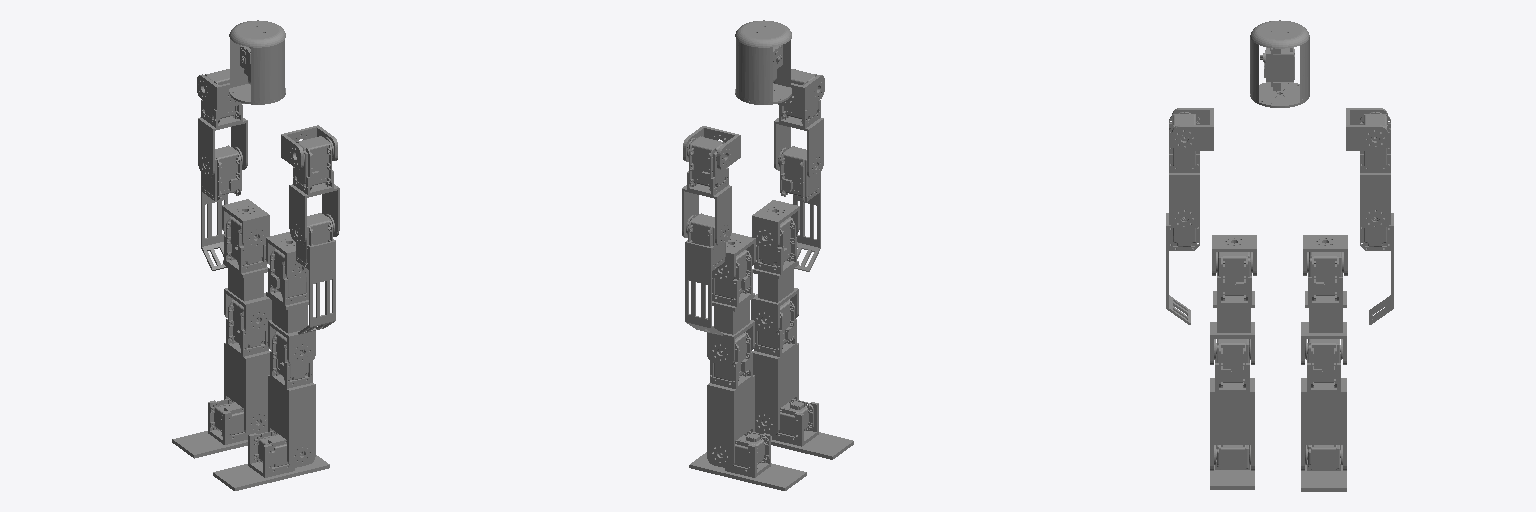
--- Facts derived from the render (not from the file) ---
Views: 3 orthographic renders of the robot side by side, from view 1: azimuth 30°, elevation 25°; view 2: azimuth 150°, elevation 25°; view 3: azimuth 270°, elevation 25°.
Model humanoid with 21 links and 20 joints (16 revolute, 4 fixed), rooted at dummy, posed all joints at 0.
Visible links, largest first — view 1: Left_Calf_Link, Right_Calf_Link, Head_Horizontal_Link, Right_Thigh_Link, Left_Thigh_Link, Left_Mid_Shoulder_Link, Left_Lower_Shoulder_Link, Left_foot_Link, Right_Lower_Shoulder_link, Right_Mid_Shoulder_link, Right_Foot_Link, Right_Hip_Link (+3 smaller); view 2: Right_Calf_Link, Left_Calf_Link, Head_Horizontal_Link, Left_Thigh_Link, Right_Thigh_Link, Right_Mid_Shoulder_link, Right_Lower_Shoulder_link, Right_Foot_Link, Left_Lower_Shoulder_Link, Left_foot_Link, Left_Mid_Shoulder_Link, Left_Hip_Link (+3 smaller); view 3: Right_Calf_Link, Left_Calf_Link, Right_Thigh_Link, Left_Thigh_Link, Head_Horizontal_Link, Left_Mid_Shoulder_Link, Right_Mid_Shoulder_link, Right_Foot_Link, Left_foot_Link, Left_Upper_Shoulder_link, Right_Upper_Shoulder_Link, Left_Lower_Shoulder_Link (+4 smaller).
Boxes of the visible links, box(x1,y1,x2,y2) form: Left_Calf_Link: box(268, 331, 315, 467); Right_Calf_Link: box(224, 300, 269, 434); Head_Horizontal_Link: box(229, 20, 285, 104); Right_Thigh_Link: box(223, 216, 271, 333); Left_Thigh_Link: box(266, 248, 315, 365); Left_Mid_Shoulder_Link: box(289, 136, 339, 244); Left_Lower_Shoulder_Link: box(296, 213, 335, 334); Left_foot_Link: box(213, 431, 329, 490); Right_Lower_Shoulder_link: box(201, 145, 242, 270); Right_Mid_Shoulder_link: box(198, 69, 247, 177); Right_Foot_Link: box(172, 398, 259, 458); Right_Hip_Link: box(222, 199, 269, 247); Right_Calf_Link: box(707, 332, 754, 468); Left_Calf_Link: box(753, 299, 798, 435); Head_Horizontal_Link: box(735, 20, 791, 104); Left_Thigh_Link: box(751, 217, 798, 333); Right_Thigh_Link: box(707, 250, 754, 366); Right_Mid_Shoulder_link: box(682, 136, 731, 245); Right_Lower_Shoulder_link: box(685, 213, 725, 335); Right_Foot_Link: box(689, 431, 806, 490); Left_Lower_Shoulder_Link: box(778, 146, 820, 271); Left_foot_Link: box(755, 399, 853, 459); Left_Mid_Shoulder_Link: box(774, 69, 823, 178); Left_Hip_Link: box(752, 200, 799, 248); Right_Calf_Link: box(1301, 339, 1346, 470); Left_Calf_Link: box(1210, 339, 1254, 470); Right_Thigh_Link: box(1301, 252, 1346, 364); Left_Thigh_Link: box(1210, 252, 1254, 364); Head_Horizontal_Link: box(1250, 20, 1309, 107); Left_Mid_Shoulder_Link: box(1169, 112, 1199, 229); Right_Mid_Shoulder_link: box(1360, 112, 1390, 229); Right_Foot_Link: box(1301, 445, 1346, 491); Left_foot_Link: box(1210, 445, 1254, 489); Left_Upper_Shoulder_link: box(1172, 108, 1213, 150); Right_Upper_Shoulder_Link: box(1346, 108, 1387, 150); Left_Lower_Shoulder_Link: box(1166, 210, 1199, 324).
Bounding box of the posed robot: 0.1501 × 0.2876 × 0.6137 m (x, y, z).
Meshes: 19 distinct files referenced, 18 mesh visuals loaded (18 binary STL); not drawn: 1 (reference not matched to a file when rendering).

robot.urdf — humanoid:
<?xml version="1.0" encoding="utf-8"?>


<robot name="humanoid">

<!-- gazebo materials -->

  <material name="black">
    <color rgba="0.0 0.0 0.0 1.0"/>
  </material>
  <material name="blue">
    <color rgba="0.0 0.0 0.8 1.0"/>
  </material>
  <material name="green">
    <color rgba="0.0 0.8 0.0 1.0"/>
  </material>
  <material name="grey">
    <color rgba="0.6 0.6 0.6 1.0"/>
  </material>
  <material name="orange">
    <color rgba="1.0 0.423529411765 0.0392156862745 1.0"/>
  </material>
  <material name="brown">
    <color rgba="0.870588235294 0.811764705882 0.764705882353 1.0"/>
  </material>
  <material name="red">
    <color rgba="0.8 0.0 0.0 1.0"/>
  </material>
  <material name="white">
    <color rgba="1.0 1.0 1.0 1.0"/>
  </material>

<!-- ros_control plugins -->

  <gazebo>
    <plugin name="gazebo_ros_control" filename="libgazebo_ros_control.so">
      <robotNamespace>/humanoid</robotNamespace> 
    </plugin> 
  </gazebo>

  <gazebo>
    <plugin filename="libgazebo_ros_p3d.so" name="ground_truth">
      <frameName>map</frameName>
      <bodyName>base_link</bodyName>
      <topicName>/humanoid/odom</topicName>
      <updateRate>100.0</updateRate>
    </plugin>
  </gazebo>

<!-- IMU -->
  <gazebo reference="IMU_Link">
    <gravity>true</gravity>
    <material>Gazebo/Green</material>
    <sensor name="IMU_Link" type="imu">
      <always_on>true</always_on>
      <update_rate>100</update_rate>
      <visualize>true</visualize>
      <topic>/humanoid/sensor/imu</topic>

      <plugin filename="libgazebo_ros_imu_sensor.so" name="imu_plugin">
        <topicName>humanoid/sensor/imu</topicName>
        <bodyName>IMU_Link</bodyName>
        <updateRateHZ>10.0</updateRateHZ>
        <gaussianNoise>0.0</gaussianNoise>
        <xyzOffset>0 0 0</xyzOffset>
        <rpyOffset>0 0 0</rpyOffset>
        <frameName>IMU_Link</frameName>
      </plugin>
      <pose>0 0 0 0 0 0</pose>
    </sensor>
  </gazebo>

  <!-- World -->
  <gazebo reference="world"/>
  <!-- Map -->
  <gazebo reference="map"/>
  <!-- Base -->
  <gazebo reference="base_link"/>
  <!-- IMU -->
  <gazebo reference="imu_link"/>
  <!-- base -->
  <gazebo reference="base_link">
    <mu1>0.2</mu1>
    <mu2>0.2</mu2>
    <material>Gazebo/Grey</material>
    <selfCollide>false</selfCollide>
  </gazebo>

  <!-- Left Shoulder -->
  <gazebo reference="Left_Upper Shoulder_link">
    <mu1>0.2</mu1>
    <mu2>0.2</mu2>
    <material>Gazebo/Grey</material>
    <selfCollide>false</selfCollide>
  </gazebo>

  <gazebo reference="Left_Mid_Shoulder_Link">
    <mu1>0.2</mu1>
    <mu2>0.2</mu2>
    <material>Gazebo/Grey</material>
    <selfCollide>false</selfCollide>
  </gazebo>

  <gazebo reference="Left_Lower_Shoulder Link">
    <mu1>0.2</mu1>
    <mu2>0.2</mu2>
    <material>Gazebo/Grey</material>
    <selfCollide>false</selfCollide>
  </gazebo>

<!--Right Shoulder -->
  <gazebo reference="Right_Upper_Shoulder_Link">
    <mu1>0.2</mu1>
    <mu2>0.2</mu2>
    <material>Gazebo/Grey</material>
    <selfCollide>false</selfCollide>
  </gazebo>

  <gazebo reference="Right_Mid_Shoulder_link">
    <mu1>0.2</mu1>
    <mu2>0.2</mu2>
    <material>Gazebo/Grey</material>
    <selfCollide>false</selfCollide>
  </gazebo>

  <gazebo reference="Right_Lower_Shoulder_link">
    <mu1>0.2</mu1>
    <mu2>0.2</mu2>
    <material>Gazebo/Grey</material>
    <selfCollide>false</selfCollide>
  </gazebo>

<!--Right Leg -->
  <gazebo reference="Right_Hip_Link">
    <mu1>0.2</mu1>
    <mu2>0.2</mu2>
    <material>Gazebo/Grey</material>
    <selfCollide>false</selfCollide>
  </gazebo>

  <gazebo reference="Right_Thigh_Link">
    <mu1>0.2</mu1>
    <mu2>0.2</mu2>
    <material>Gazebo/Grey</material>
    <selfCollide>false</selfCollide>
  </gazebo>

  <gazebo reference="Right_Calf_Link Link">
    <mu1>0.2</mu1>
    <mu2>0.2</mu2>
    <material>Gazebo/Grey</material>
    <selfCollide>false</selfCollide>
  </gazebo>

  <gazebo reference="Right_Foot_Link">
    <kp>10000.0</kp>
    <kd>100.0</kd>
    <mu1>0.9</mu1>
    <mu2>0.9</mu2>
    <fdir1>1 1 0</fdir1>
    <maxVel>1.0</maxVel>
    <minDepth>0.0001</minDepth>
    <material>Gazebo/Blue</material>
  </gazebo>

<!-- Left Leg -->
  <gazebo reference="Left_Hip_Link">
    <mu1>0.2</mu1>
    <mu2>0.2</mu2>
    <material>Gazebo/Grey</material>
    <selfCollide>false</selfCollide>
  </gazebo>
  <gazebo reference="Left_Thigh_Link">
    <mu1>0.2</mu1>
    <mu2>0.2</mu2>
    <material>Gazebo/Grey</material>
    <selfCollide>false</selfCollide>
  </gazebo>
  <gazebo reference="Left_Calf_Link">
    <mu1>0.2</mu1>
    <mu2>0.2</mu2>
    <material>Gazebo/Grey</material>
    <selfCollide>false</selfCollide>
  </gazebo>
  <gazebo reference="Left_foot_Link">
    <kp>10000.0</kp>
    <kd>100.0</kd>
    <mu1>0.9</mu1>
    <mu2>0.9</mu2>
    <fdir1>1 1 0</fdir1>
    <maxVel>1.0</maxVel>
    <minDepth>0.0001</minDepth>
    <material>Gazebo/Blue</material>
  </gazebo>

<!-- head -->
  <gazebo reference="Head_Horizontal_Link">
    <mu1>0.2</mu1>
    <mu2>0.2</mu2>
    <material>Gazebo/Grey</material>
    <selfCollide>false</selfCollide>
  </gazebo>

  <gazebo reference="Head_Vertical_Link">
    <mu1>0.2</mu1>
    <mu2>0.2</mu2>
    <material>Gazebo/Grey</material>
    <selfCollide>false</selfCollide>
  </gazebo>
<!-- Camera -->
   <gazebo reference="Lens_Link">
    <material>Gazebo/red</material>
    <sensor name="Camera" type="camera">
      <pose> 0 0 0 0 0 0   </pose>
      <visualize>true</visualize>
      <update_rate>100</update_rate>
      <camera>
        <horizontal_fov>1.089</horizontal_fov>
       <image>
          <format>R8G8B8</format>
          <width>640</width>
          <height>480</height>
        </image> 
        <clip>
          <near>0.05</near>
          <far>8.0</far>
        </clip>
      </camera>
      <plugin name="camera_controller" filename="libgazebo_ros_camera.so">
        <frame_name>Lens_Link</frame_name>
	<topicName>humanoid/sensor/camera</topicName>
        <updateRateHZ>10.0</updateRateHZ>
      </plugin>
    </sensor>
  </gazebo>  

<!-- Dummy Link -->
  <link name="dummy">
    </link>

<!-- Dummy Joint -->
  <joint name ="dummy_joint" type="fixed">
	<parent link="dummy" />
	<child link="base_link" />
  </joint>

<!-- Base link -->
  <link
    name="base_link">
    <inertial>
      <origin xyz="0.0430324853400007 -0.000472436994687554 0.418875105300566" rpy="0 0 0" />
      <mass value="1.5156152965091" />
      <inertia
        ixx="0.00479971128253314"
        ixy="-1.53952738629959E-06"
        ixz="-0.000447300525972222"
        iyy="0.0034137294682176"
        iyz="-2.76941918796667E-06"
        izz="0.00294823153121814" />
    </inertial>
    <visual>
      <origin xyz="0 0 0" rpy="0 0 0" />
      <geometry>
        <mesh filename="package://humanoid_descripition/meshes/base_link.STL" />
      </geometry>
      <material name="grey"/>
    </visual>
    <collision>
      <origin
        xyz="0 0 0" rpy="0 0 0" />
      <geometry>
        <mesh filename="package://humanoid_descripition/meshes/base_link.STL" />
      </geometry>
    </collision>
  </link>
<!--Left upper shoulder link -->
  <link
    name="Left_Upper_Shoulder_link">
    <inertial>
      <origin xyz="-3.46944695195361E-18 -0.0155156048759658 -7.21644966006352E-16" rpy="0 0 0" />
      <mass value="0.0623876643494411" />
      <inertia ixx="2.27108792085224E-05" ixy="7.39334846754752E-21" ixz="-3.44731761197701E-21" iyy="3.90809536959519E-05" iyz="-1.53755655815756E-21"  izz="4.97719837636778E-05" />
    </inertial>
    <visual>
      <origin xyz="0 0 0" rpy="0 0 0" />
      <geometry>
        <mesh filename="package://humanoid_descripition/meshes/Left_Upper_Shoulder_link.STL" />
      </geometry>
      <material name="grey"/>
    </visual>
    <collision>
      <origin
        xyz="0 0 0" rpy="0 0 0" />
      <geometry>
        <mesh filename="package://humanoid_descripition/meshes/Left_Upper_Shoulder_link.STL" />
      </geometry>
    </collision>
  </link>

<!-- Left_Upper_Shoulder_Joint -->
  <joint
    name="Left_Upper_Shoulder_Joint" type="revolute">
    <origin xyz="0.045 -0.0862 0.48279"  rpy="0 0 0" />
    <parent link="base_link" />
    <child link="Left_Upper_Shoulder_link" />
    <axis xyz="0 -1 0" />
    <limit lower="-3.14" upper="3.14" effort="8.4" velocity="4.712" />
    <dynamics damping="0.1" friction="0.0"/>
  </joint>

<!-- Left_Upper_Shoulder_Transmission -->
  <transmission name="Left_Upper_Shoulder_transmission">
    <type>transmission_interface/SimpleTransmission</type>
    <joint name="Left_Upper_Shoulder_Joint">
      <hardwareInterface>hardware_interface/EffortJointInterface</hardwareInterface>
    </joint>
    <actuator name="Left_Upper_Shoulder_actuator">
      <hardwareInterface>hardware_interface/EffortJointInterface</hardwareInterface>
      <mechanicalReduction>1</mechanicalReduction>
    </actuator>
  </transmission>

  <link
    name="Left_Mid_Shoulder_Link">
    <inertial>
      <origin xyz="0.0264662969429448 4.09537062595611E-08 -0.0440571522217455" rpy="0 0 0" />
      <mass value="0.154300552543257" />
      <inertia
        ixx="7.07637535997255E-05"
        ixy="-5.19855697944797E-13"
        ixz="-2.88599141150469E-07"
        iyy="9.89041124781951E-05"
        iyz="2.76937890171708E-10"
        izz="6.2961859669379E-05" />
    </inertial>
    <visual>
      <origin xyz="0 0 0" rpy="0 0 0" />
      <geometry>
        <mesh filename="package://humanoid_descripition/meshes/Left_Mid_Shoulder_Link.STL" />
      </geometry>
      <material name="grey"/>
    </visual>
    <collision>
      <origin xyz="0 0 0" rpy="0 0 0" />
      <geometry>
        <mesh filename="package://humanoid_descripition/meshes/Left_Mid_Shoulder_Link.STL" />
      </geometry>
    </collision>
  </link>

<!-- Left_Mid_Shoulder_Joint -->
  <joint name="Left_Mid_Shoulder_Joint" type="revolute">
    <origin xyz="-0.026 -0.0345 0" rpy="0 0 0" />
    <parent link="Left_Upper_Shoulder_link" />
    <child link="Left_Mid_Shoulder_Link" />
    <axis xyz="1 0 0" />
    <limit lower="-3.14" upper="3.14" effort="6" velocity="6.59" />
  </joint>

<!-- Left Mid shoulder transmission -->
  <transmission name="Left_Mid_Shoulder_transmission">
    <type>transmission_interface/SimpleTransmission</type>
    <joint name="Left_Mid_Shoulder_Joint">
      <hardwareInterface>hardware_interface/EffortJointInterface</hardwareInterface>
    </joint>
    <actuator name="Left_Mid_Shoulder_actuator">
      <hardwareInterface>hardware_interface/EffortJointInterface</hardwareInterface>
      <mechanicalReduction>1</mechanicalReduction>
    </actuator>
  </transmission>

<!-- Left Lower Shoulder Link -->
  <link name="Left_Lower_Shoulder_Link">
    <inertial>
      <origin xyz="0.0250664390388209 -0.00638333415263484 -0.0372443138205451" rpy="0 0 0" />
      <mass value="0.116130359952787" />
      <inertia
        ixx="0.000106554804819096"
        ixy="-5.19855704836473E-13"
        ixz="2.8859914115054E-07"
        iyy="0.000115041924032447"
        iyz="5.75846158471286E-06"
        izz="2.6449480887795E-05" />
    </inertial>
    <visual>
      <origin xyz="0 0 0" rpy="0 0 0" />
      <geometry>
        <mesh filename="package://humanoid_descripition/meshes/Left_Lower_Shoulder Link.STL" />
      </geometry>
      <material name="grey"/>
    </visual>
    <collision>
      <origin xyz="0 0 0" rpy="0 0 0" />
      <geometry>
        <mesh filename="package://humanoid_descripition/meshes/Left_Lower_Shoulder Link.STL" />
      </geometry>
    </collision>
  </link>

<!-- Left_Lower_Shoulder_Joint -->
  <joint name="Left_Lower_Shoulder_Joint" type="revolute">
    <origin xyz="0.00230000000000036 0 -0.111599999999999" rpy="0 0 0" />
    <parent link="Left_Mid_Shoulder_Link" />
    <child link="Left_Lower_Shoulder_Link" />
    <axis xyz="1 0 0" />
    <limit lower="-3.14" upper="3.14" effort="6" velocity="6.59" />
  </joint>

<!-- Left_Lower_Shoulder_transmission-->
  <transmission name="Left_Lower_Shoulder_transmission">
    <type>transmission_interface/SimpleTransmission</type>
    <joint name="Left_Lower_Shoulder_Joint">
      <hardwareInterface>hardware_interface/EffortJointInterface</hardwareInterface>
    </joint>
    <actuator name="Left_Lower_Shoulder_actuator">
      <hardwareInterface>hardware_interface/EffortJointInterface</hardwareInterface>
      <mechanicalReduction>1</mechanicalReduction>
    </actuator>
  </transmission>
<!-- Right upper shoulder link -->
  <link name="Right_Upper_Shoulder_Link">
    <inertial>
      <origin xyz="-1.21430643318376E-17 0.015515604875966 -7.49400541621981E-16" rpy="0 0 0" />
      <mass value="0.0623876643494411" />
      <inertia
        ixx="2.27108792085224E-05"
        ixy="-1.28155332543922E-20"
        ixz="-1.24135449919456E-20"
        iyy="3.90809536959519E-05"
        iyz="-1.95476644554543E-22"
        izz="4.97719837636778E-05" />
    </inertial>
    <visual>
      <origin xyz="0 0 0" rpy="0 0 0" />
      <geometry>
        <mesh filename="package://humanoid_descripition/meshes/Right_Upper_Shoulder_Link.STL" />
      </geometry>
      <material name="grey"/>
    </visual>
    <collision>
      <origin xyz="0 0 0" rpy="0 0 0" />
      <geometry>
        <mesh filename="package://humanoid_descripition/meshes/Right_Upper_Shoulder_Link.STL" />
      </geometry>
    </collision>
  </link>

<!-- Right_Upper_Shoulder_Joint -->
  <joint name="Right_Upper_Shoulder_Joint" type="revolute">
    <origin xyz="0.045 0.0862000000000002 0.482793745640598" rpy="0 0 0" />
    <parent link="base_link" />
    <child link="Right_Upper_Shoulder_Link" />
    <axis xyz="0 1 0" />
    <limit lower="-3.14" upper="3.14" effort="8.4" velocity="4.712" />
  </joint>

<!-- Right_Upper_Shoulder_transmission -->
  <transmission name="Right_Upper_Shoulder_transmission">
    <type>transmission_interface/SimpleTransmission</type>
    <joint name="Right_Upper_Shoulder_Joint">
      <hardwareInterface>hardware_interface/EffortJointInterface</hardwareInterface>
    </joint>
    <actuator name="Right_Upper_Shoulder_actuator">
      <hardwareInterface>hardware_interface/EffortJointInterface</hardwareInterface>
      <mechanicalReduction>1</mechanicalReduction>
    </actuator>
  </transmission>
<!-- right mid shoulder link -->
  <link name="Right_Mid_Shoulder_link">
    <inertial>
      <origin xyz="0.0264662969429444 4.09537060375165E-08 -0.044057152221746" rpy="0 0 0" />
      <mass value="0.154300552543257" />
      <inertia
        ixx="7.07637535997256E-05"
        ixy="-5.19855694633109E-13"
        ixz="-2.88599141150464E-07"
        iyy="9.89041124781952E-05"
        iyz="2.76937890187698E-10"
        izz="6.29618596693791E-05" />
    </inertial>
    <visual>
      <origin xyz="0 0 0" rpy="0 0 0" />
      <geometry>
        <mesh filename="package://humanoid_descripition/meshes/Right_Mid_Shoulder_link.STL" />
      </geometry>
      <material
        name="grey"/>
    </visual>
    <collision>
      <origin xyz="0 0 0" rpy="0 0 0" />
      <geometry>
        <mesh filename="package://humanoid_descripition/meshes/Right_Mid_Shoulder_link.STL" />
      </geometry>
    </collision>
  </link>

<!-- Right_Mid_Shoulder_Joint -->
  <joint name="Right_Mid_Shoulder_Joint" type="revolute">
    <origin xyz="-0.026 0.0345 0" rpy="0 0 0" />
    <parent link="Right_Upper_Shoulder_Link" />
    <child link="Right_Mid_Shoulder_link" />
    <axis xyz="1 0 0" />
    <limit lower="-3.14" upper="3.14" effort="6" velocity="6.59" />
  </joint>

<!-- Right_Mid_Shoulder_transmission -->
  <transmission name="Right_Mid_Shoulder_transmission">
    <type>transmission_interface/SimpleTransmission</type>
    <joint name="Right_Mid_Shoulder_Joint">
      <hardwareInterface>hardware_interface/EffortJointInterface</hardwareInterface>
    </joint>
    <actuator name="Right_Mid_Shoulder_actuator">
      <hardwareInterface>hardware_interface/EffortJointInterface</hardwareInterface>
      <mechanicalReduction>1</mechanicalReduction>
    </actuator>
  </transmission>

<!-- Right Lower Shoulder -->
  <link
    name="Right_Lower_Shoulder_link">
    <inertial>
      <origin xyz="0.0250664390388211 0.00638333374995644 -0.0372443138205444" rpy="0 0 0" />
      <mass value="0.116130359952787" />
      <inertia
        ixx="0.000106554804819096"
        ixy="-5.19855699251492E-13"
        ixz="2.88599141150526E-07"
        iyy="0.000115041924032448"
        iyz="-5.75845724996921E-06"
        izz="2.64494808877951E-05" />
    </inertial>
    <visual>
      <origin xyz="0 0 0" rpy="0 0 0" />
      <geometry>
        <mesh filename="package://humanoid_descripition/meshes/Right_Lower_Shoulder_link.STL" />
      </geometry>
      <material name="grey"/>
    </visual>
    <collision>
      <origin xyz="0 0 0" rpy="0 0 0" />
      <geometry>
        <mesh filename="package://humanoid_descripition/meshes/Right_Lower_Shoulder_link.STL" />
      </geometry>
    </collision>
  </link>

<!-- Right_Lower_Shoulder_joint -->
  <joint name="Right_Lower_Shoulder_Joint" type="revolute">
    <origin xyz="0.00230000000000011 0 -0.1116" rpy="0 0 0" />
    <parent link="Right_Mid_Shoulder_link" />
    <child link="Right_Lower_Shoulder_link" />
    <axis xyz="1 0 0" />
    <limit lower="-3.14" upper="3.14" effort="6" velocity="6.59" />
  </joint>

<!-- Right_Lower_Shoulder_transmission -->
  <transmission name="Right_Lower_Shoulder_transmission">
    <type>transmission_interface/SimpleTransmission</type>
    <joint name="Right_Lower_Shoulder_Joint">
      <hardwareInterface>hardware_interface/EffortJointInterface</hardwareInterface>
    </joint>
    <actuator name="Right_Lower_Shoulder_actuator">
      <hardwareInterface>hardware_interface/EffortJointInterface</hardwareInterface>
      <mechanicalReduction>1</mechanicalReduction>
    </actuator>
  </transmission>

<!--Right Hip Link -->

  <link name="Right_Hip_Link">
    <inertial>
      <origin xyz="-1.90819582357449E-17 8.5868812060852E-17 -0.0108026519831324" rpy="0 0 0" />
      <mass value="0.0642422648022387" />
      <inertia
        ixx="4.229626009049E-05"
        ixy="-2.85610366578733E-21"
        ixz="-1.1809768368682E-20"
        iyy="1.91108022562779E-05"
        iyz="-6.6452799051975E-21"
        izz="4.09654383516233E-05" />
    </inertial>
    <visual>
      <origin xyz="0 0 0" rpy="0 0 0" />
      <geometry>
        <mesh filename="package://humanoid_descripition/meshes/Right_Hip_Link.STL" />
      </geometry>
      <material name="grey" />
    </visual>
    <collision>
      <origin xyz="0 0 0" rpy="0 0 0" />
      <geometry>
        <mesh filename="package://humanoid_descripition/meshes/Right_Hip_Link.STL" />
      </geometry>
    </collision>
  </link>

<!-- Right_Hip_Joint -->
  <joint name="Right_Hip_Joint" type="revolute">
    <origin xyz="0.045 0.0576361191366068 0.323180000000002" rpy="0 0 0" />
    <parent link="base_link" />
    <child link="Right_Hip_Link" />
    <axis xyz="0 0 1" />
    <limit lower="-3.14" upper="3.14" effort="8.4" velocity="4.712" />
  </joint>

<!-- Right_Hip_Joint_transmission -->
  <transmission name="Right_Hip_Joint_transmission">
    <type>transmission_interface/SimpleTransmission</type>
    <joint name="Right_Hip_Joint">
      <hardwareInterface>hardware_interface/EffortJointInterface</hardwareInterface>
    </joint>
    <actuator name="Right_Hip_Joint_motor">
      <hardwareInterface>hardware_interface/EffortJointInterface</hardwareInterface>
      <mechanicalReduction>1</mechanicalReduction>
    </actuator>
  </transmission>
<!-- Right Thigh Link -->
  <link name="Right_Thigh_Link">
    <inertial>
      <origin xyz="0.000423342095901284 -0.026447064925249 -0.0636339184538543" rpy="0 0 0" />
      <mass value="0.329164377734902" />
      <inertia
        ixx="0.000243462631907648"
        ixy="2.02833424750188E-07"
        ixz="4.17202887012631E-06"
        iyy="0.000198542286401605"
        iyz="-4.45660040213608E-06"
        izz="0.000113461408846216" />
    </inertial>
    <visual>
      <origin xyz="0 0 0" rpy="0 0 0" />
      <geometry>
        <mesh filename="package://humanoid_descripition/meshes/Right_Thigh_Link.STL" />
      </geometry>
      <material name="grey"/>
    </visual>
    <collision>
      <origin xyz="0 0 0" rpy="0 0 0" />
      <geometry>
        <mesh filename="package://humanoid_descripition/meshes/Right_Thigh_Link.STL" />
      </geometry>
    </collision>
  </link>

<!-- Right_Thigh_Joint -->
  <joint name="Right_Thigh_Joint" type="revolute">
    <origin xyz="0 0.026 -0.025" rpy="0 0 0" />
    <parent link="Right_Hip_Link" />
    <child link="Right_Thigh_Link" />
    <axis xyz="0 1 0" />
    <limit lower="-3.14" upper="3.14" effort="6" velocity="6.59" />
  </joint>

<!-- Right_Thigh_Joint_transmission -->
  <transmission name="Right_Thigh_Joint_transmission">
    <type>transmission_interface/SimpleTransmission</type>
    <joint name="Right_Thigh_Joint">
      <hardwareInterface>hardware_interface/EffortJointInterface</hardwareInterface>
    </joint>
    <actuator name="Right_Thigh_Joint_motor">
      <hardwareInterface>hardware_interface/EffortJointInterface</hardwareInterface>
      <mechanicalReduction>1</mechanicalReduction>
    </actuator>
  </transmission>

<!-- Right Calf Link -->

  <link name="Right_Calf_Link">
    <inertial>
      <origin xyz="-3.34420367410423E-07 -0.026027708615202 -0.0719996537867291" rpy="0 0 0" />
      <mass value="0.278454532534902" />
      <inertia
        ixx="0.000388064654467613"
        ixy="5.19855683036761E-13"
        ixz="5.41021302044064E-09"
        iyy="0.00033610996778635"
        iyz="-2.88599141150599E-07"
        izz="0.00014525331851066" />
    </inertial>
    <visual>
      <origin xyz="0 0 0" rpy="0 0 0" />
      <geometry>
        <mesh filename="package://humanoid_descripition/meshes/Right_Calf_Link.STL" />
      </geometry>
      <material name="grey"/>
    </visual>
    <collision>
      <origin xyz="0 0 0" rpy="0 0 0" />
      <geometry>
        <mesh filename="package://humanoid_descripition/meshes/Right_Calf_Link.STL" />
      </geometry>
    </collision>
  </link>

<!-- Right_Calf_Joint -->
  <joint name="Right_Calf_Joint" type="revolute">
    <origin xyz="0.002 -0.002 -0.12045" rpy="0 0 0" />
    <parent link="Right_Thigh_Link" />
    <child link="Right_Calf_Link" />
    <axis xyz="0 -1 0" />
    <limit lower="-3.14" upper="3.14" effort="6" velocity="6.59" />
  </joint>

<!-- Right_Calf_Joint_transmission -->
  <transmission name="Right_Calf_Joint_transmission">
    <type>transmission_interface/SimpleTransmission</type>
    <joint name="Right_Calf_Joint">
      <hardwareInterface>hardware_interface/EffortJointInterface</hardwareInterface>
    </joint>
    <actuator name="Right_Calf_Joint_motor">
      <hardwareInterface>hardware_interface/EffortJointInterface</hardwareInterface>
      <mechanicalReduction>1</mechanicalReduction>
    </actuator>
  </transmission>
<!-- Right Foot Link -->

  <link name="Right_Foot_Link">
    <inertial>
      <origin xyz="-0.0228912537755578 -0.0260337552131627 -0.0165520288889218" rpy="0 0 0" />
      <mass value="0.228574752469723" />
      <inertia
        ixx="6.27709487239591E-05"
        ixy="-2.88599141150578E-07"
        ixz="3.12684797924826E-06"
        iyy="0.000234589381478159"
        iyz="-5.19855711070292E-13"
        izz="0.000273604198953035" />
    </inertial>
    <visual>
      <origin xyz="0 0 0"  rpy="0 0 0" />
      <geometry>
        <mesh filename="package://humanoid_descripition/meshes/Right_Foot_Link.STL" />
      </geometry>
      <material name="grey"/>
    </visual>
    <collision>
      <origin xyz="0 0 0" rpy="0 0 0" />
      <geometry>
        <mesh filename="package://humanoid_descripition/meshes/Right_Foot_Link.STL" />
      </geometry>
    </collision>
  </link>

<!-- Right_Foot_Joint -->
  <joint name="Right_Foot_Joint" type="revolute">
    <origin xyz="0 0 -0.14763" rpy="0 0 0" />
    <parent link="Right_Calf_Link" />
    <child link="Right_Foot_Link" />
    <axis xyz="0 1 0" />
    <limit lower="-3.14" upper="3.14" effort="6" velocity="6.59" />
  </joint>


<!-- Right_Foot_Joint_transmission -->
  <transmission name="Right_Foot_Joint_transmission">
    <type>transmission_interface/SimpleTransmission</type>
    <joint name="Right_Foot_Joint">
      <hardwareInterface>hardware_interface/EffortJointInterface</hardwareInterface>
    </joint>
    <actuator name="Right_Foot_Joint_motor">
      <hardwareInterface>hardware_interface/EffortJointInterface</hardwareInterface>
      <mechanicalReduction>1</mechanicalReduction>
    </actuator>
  </transmission> 

<!-- Left Hip Link -->
  <link name="Left_Hip_Link">
    <inertial>
      <origin xyz="-1.21430643318376E-17 1.38777878078145E-17 -0.0108026519831324" rpy="0 0 0" />
      <mass value="0.0642422648022388" />
      <inertia
        ixx="4.22962600904901E-05"
        ixy="-2.93588493303712E-21"
        ixz="-1.50763911535534E-20"
        iyy="1.9110802256278E-05"
        iyz="-3.29932625471404E-20"
        izz="4.09654383516233E-05" />
    </inertial>
    <visual>
      <origin xyz="0 0 0" rpy="0 0 0" />
      <geometry>
        <mesh filename="package://humanoid_descripition/meshes/Left_Hip_Link.STL" />
      </geometry>
      <material name="grey"/>
    </visual>
    <collision>
      <origin xyz="0 0 0" rpy="0 0 0" />
      <geometry>
        <mesh filename="package://humanoid_descripition/meshes/Left_Hip_Link.STL" />
      </geometry>
    </collision>
  </link>

<!-- Left_Hip_Joint -->
  <joint name="Left_Hip_Joint" type="revolute">
    <origin xyz="0.045 -0.0576361191366066 0.323180000000002" rpy="0 0 0" />
    <parent link="base_link" />
    <child link="Left_Hip_Link" />
    <axis xyz="0 0 1" />
    <limit lower="-3.14" upper="3.14" effort="8.4" velocity="4.712" />
  </joint>

<!-- Left_Hip_Joint_transmission -->
  <transmission name="Left_Hip_Joint_transmission">
    <type>transmission_interface/SimpleTransmission</type>
    <joint name="Left_Hip_Joint">
      <hardwareInterface>hardware_interface/EffortJointInterface</hardwareInterface>
    </joint>
    <actuator name="Left_Hip_Joint_motor">
      <hardwareInterface>hardware_interface/EffortJointInterface</hardwareInterface>
      <mechanicalReduction>1</mechanicalReduction>
    </actuator>
  </transmission>

<!-- Left Thigh Link -->
  <link name="Left_Thigh_Link">
    <inertial>
      <origin xyz="0.000345721545497979 0.0255998149318385 -0.0636339184538543" rpy="0 0 0" />
      <mass value="0.329164377734902" />
      <inertia
        ixx="0.000243462631907648"
        ixy="2.02833424750158E-07"
        ixz="4.17202453538254E-06"
        iyy="0.000198542286401605"
        iyz="-3.87940211983504E-06"
        izz="0.000113461408846216" />
    </inertial>
    <visual>
      <origin xyz="0 0 0" rpy="0 0 0" />
      <geometry>
        <mesh filename="package://humanoid_descripition/meshes/Left_Thigh_Link.STL" />
      </geometry>
      <material name="grey"/>
    </visual>
    <collision>
      <origin xyz="0 0 0" rpy="0 0 0" />
      <geometry>
        <mesh filename="package://humanoid_descripition/meshes/Left_Thigh_Link.STL" />
      </geometry>
    </collision>
  </link>

<!-- Left_Thigh_joint -->
  <joint name="Left_Thigh_joint" type="revolute">
    <origin xyz="0 -0.026 -0.025" rpy="0 0 0" />
    <parent link="Left_Hip_Link" />
    <child link="Left_Thigh_Link" />
    <axis xyz="0 1 0" />
    <limit lower="-3.14" upper="3.14" effort="6" velocity="6.59" />
  </joint>

<!-- Left_Thigh_joint_transmission -->
  <transmission name="Left_Thigh_joint_transmission">
    <type>transmission_interface/SimpleTransmission</type>
    <joint name="Left_Thigh_joint">
      <hardwareInterface>hardware_interface/EffortJointInterface</hardwareInterface>
    </joint>
    <actuator name="Left_Thigh_joint_motor">
      <hardwareInterface>hardware_interface/EffortJointInterface</hardwareInterface>
      <mechanicalReduction>1</mechanicalReduction>
    </actuator>
  </transmission>

  <link name="Left_Calf_Link">
    <inertial>
      <origin xyz="-3.34420367405219E-07 0.0259722913847975 -0.0719996537867291" rpy="0 0 0" />
      <mass value="0.278454532534902" />
      <inertia
        ixx="0.000388064654467613"
        ixy="5.19855688294565E-13"
        ixz="5.41021302046885E-09"
        iyy="0.00033610996778635"
        iyz="-2.88599141150536E-07"
        izz="0.00014525331851066" />
    </inertial>
    <visual>
      <origin xyz="0 0 0" rpy="0 0 0" />
      <geometry>
        <mesh filename="package://humanoid_descripition/meshes/Left_Calf_Link.STL" />
      </geometry>
      <material name="grey"/>
    </visual>
    <collision>
      <origin xyz="0 0 0" rpy="0 0 0" />
      <geometry>
        <mesh filename="package://humanoid_descripition/meshes/Left_Calf_Link.STL" />
      </geometry>
    </collision>
  </link>

<!-- Left_Calf_Joint -->
  <joint name="Left_Calf_Joint" type="revolute">
    <origin xyz="0.00190000000000006 -0.00199999999999997 -0.12045" rpy="0 0 0" />
    <parent link="Left_Thigh_Link" />
    <child link="Left_Calf_Link" />
    <axis xyz="0 1 0" />
    <limit lower="-3.14" upper="3.14" effort="6" velocity="6.59" />
  </joint>

<!-- Left_Calf_Joint_transmission -->
  <transmission name="Left_Calf_Joint_transmission">
    <type>transmission_interface/SimpleTransmission</type>
    <joint name="Left_Calf_Joint">
      <hardwareInterface>hardware_interface/EffortJointInterface</hardwareInterface>
    </joint>
    <actuator name="Left_Calf_Joint_motor">
      <hardwareInterface>hardware_interface/EffortJointInterface</hardwareInterface>
      <mechanicalReduction>1</mechanicalReduction>
    </actuator>
  </transmission>

<!-- left foot link -->
  <link name="Left_foot_Link">
    <inertial>
      <origin xyz="-0.0262798617128554 0.0259662447868374 -0.0165520288889218" rpy="0 0 0" />
      <mass value="0.228574752469723" />
      <inertia
        ixx="6.2770948723959E-05"
        ixy="-2.88599141150787E-07"
        ixz="3.12684797924825E-06"
        iyy="0.000234589381478158"
        iyz="-5.19855700833997E-13"
        izz="0.000273604198953034" />
    </inertial>
    <visual>
      <origin xyz="0 0 0" rpy="0 0 0" />
      <geometry>
        <mesh filename="package://humanoid_descripition/meshes/Left_foot_Link.STL" />
      </geometry>
      <material name="grey"/>
    </visual>
    <collision>
      <origin xyz="0 0 0" rpy="0 0 0" />
      <geometry>
        <mesh filename="package://humanoid_descripition/meshes/Left_foot_Link.STL" />
      </geometry>
    </collision>
  </link>

<!-- Left_foot_Joint -->
 <joint name="Left_foot_Joint" type="revolute">
    <origin xyz="0 0 -0.14763" rpy="0 0 0" />
    <parent link="Left_Calf_Link" />
    <child link="Left_foot_Link" />
    <axis xyz="0 1 0" />
    <limit lower="-3.14" upper="3.14" effort="6" velocity="6.59" />
  </joint> 


<!-- Left_foot_Joint_transmission -->
  <transmission name="Left_foot_Joint_transmission">
    <type>transmission_interface/SimpleTransmission</type>
    <joint name="Left_foot_Joint">
      <hardwareInterface>hardware_interface/EffortJointInterface</hardwareInterface>
    </joint>
    <actuator name="Left_foot_Joint_motor">
      <hardwareInterface>hardware_interface/EffortJointInterface</hardwareInterface>
      <mechanicalReduction>1</mechanicalReduction>
    </actuator>
  </transmission> 

<!-- Head Horizontal -->
  <link name="Head_Horizontal_Link">
    <inertial>
      <origin xyz="-7.84676299232095E-06 0.00200378386470303 0.0485306889790276" rpy="0 0 0" />
      <mass value="0.304581604639682" />
      <inertia
        ixx="0.000344223992822679"
        ixy="3.23416736024759E-08"
        ixz="2.14300139927456E-08"
        iyy="0.00025250434561587"
        iyz="1.03645901492193E-05"
        izz="0.000226309827320736" />
    </inertial>
    <visual>
      <origin xyz="0 0 0" rpy="0 0 0" />
      <geometry>
        <mesh filename="package://humanoid_descripition/meshes/Head_Horizontal_Link.STL" />
      </geometry>
      <material name="grey"/>
    </visual>
    <collision>
      <origin xyz="0 0 0" rpy="0 0 0" />
      <geometry>
        <mesh filename="package://humanoid_descripition/meshes/Head_Horizontal_Link.STL" />
      </geometry>
    </collision>
  </link>

<!-- Head_Horizontal_Joint -->
  <joint name="Head_Horizontal_Joint" type="revolute">
    <origin xyz="0.0299 0 0.524230000000002" rpy="0 0 0" />
    <parent link="base_link" />
    <child link="Head_Horizontal_Link" />
    <axis xyz="0 0 1" />
    <limit lower="-3.14" upper="3.14" effort="1.078" velocity="6.159" />
  </joint>

<!-- Head_Horizontal_transmission -->
  <transmission name="Head_Horizontal_transmission">
    <type>transmission_interface/SimpleTransmission</type>
    <joint name="Head_Horizontal_Joint">
      <hardwareInterface>hardware_interface/EffortJointInterface</hardwareInterface>
    </joint>
    <actuator name="Head_Horizontal_actuator">
      <hardwareInterface>hardware_interface/EffortJointInterface</hardwareInterface>
      <mechanicalReduction>1</mechanicalReduction>
    </actuator>
  </transmission>

<!-- Head Vertical Link -->
  <link name="Head_Vertical_Link">
    <inertial>
      <origin xyz="-0.00797403135381314 0.0257820432407305 -0.00633555775851055" rpy="0 0 0" />
      <mass value="0.0336929106124403" />
      <inertia
        ixx="1.23288476738391E-05"
        ixy="1.61107638845834E-07"
        ixz="7.16221856208835E-07"
        iyy="1.33519522742047E-05"
        iyz="-1.33901765257804E-07"
        izz="3.28226792350189E-06" />
    </inertial>
    <visual>
      <origin xyz="0 0 0" rpy="0 0 0" />
      <geometry>
        <mesh filename="package://humanoid_descripition/meshes/Head_Vertical_Link.STL" />
      </geometry>
      <material name="grey"/>
    </visual>
    <collision>
      <origin xyz="0 0 0" rpy="0 0 0" />
      <geometry>
        <mesh filename="package://humanoid_descripition/meshes/Head_Vertical_Link.STL" />
      </geometry>
    </collision>
  </link>

<!-- Head_Vertical_Joint -->
  <joint name="Head_Vertical_Joint" type="revolute">
    <origin xyz="4.2275E-05 -0.0285 0.0515" rpy="0 0 0" />
    <parent link="Head_Horizontal_Link" />
    <child link="Head_Vertical_Link" />
    <axis xyz="0 0 1" />
    <limit lower="-3.14" upper="3.14" effort="1.078" velocity="6.159" />
  </joint>

<!-- Head_Vertical_transmission -->
  <transmission name="Head_Vertical_transmission">
    <type>transmission_interface/SimpleTransmission</type>
    <joint name="Head_Vertical_Joint">
      <hardwareInterface>hardware_interface/EffortJointInterface</hardwareInterface>
    </joint>
    <actuator name="Head_Vertical_actuator">
      <hardwareInterface>hardware_interface/EffortJointInterface</hardwareInterface>
      <mechanicalReduction>1</mechanicalReduction>
    </actuator>
  </transmission>
<!-- Camera joint -->
    <joint name="Camera_Joint" type="fixed">
      <parent link="Head_Vertical_Link"/>
      <child link="Camera_Link"/>
      <origin xyz="0 0 0" rpy="0 0 0"/>
    </joint> 
<!-- Camera link -->

  <link name="Camera_Link">
    <inertial>
      <origin
        xyz="-0.02964 0.054262 0.14599"
        rpy="0 0 0" />
      <axis
        xyz="0 0 0" />
      <mass value="0" />
      <inertia
        ixx="1.23288476738391E-05"
        ixy="1.61107638845834E-07"
        ixz="7.16221856208835E-07"
        iyy="1.33519522742047E-05"
        iyz="-1.33901765257804E-07"
        izz="3.28226792350189E-06" />
    </inertial>
    <visual>
      <origin xyz="0 0 0" rpy="0 0 0" />
      <geometry>
      <mesh filename="package://humanoid_descripition/meshes/Camera.STL" />
     </geometry>
     <material name="blue"/>
    </visual>
  </link> 
  <!--Lens_Link-->
  <link
    name="Lens_Link">
    <inertial>
      <origin
        xyz="0.0296402873307111 0.0542620041023058 -0.145993241395755"
        rpy="0 0 0" />
      <mass
        value="0" />
     <inertia
        ixx="1.23288476738391E-05"
        ixy="1.61107638845834E-07"
        ixz="7.16221856208835E-07"
        iyy="1.33519522742047E-05"
        iyz="-1.33901765257804E-07"
        izz="3.28226792350189E-06" />
    </inertial>
   
  </link>
   <!--Lens_Joint--> 
  <joint
    name="Lens_joint"
    type="fixed">
    <origin
      xyz="-0.0249627342624163 0.0274630025807885 0.000388603128653991"
      rpy="-3.14159265358979 -0.0155915295359344 -3.14010933670462" />
    <parent
      link="Head_Vertical_Link" />
    <child
      link="Lens_Link" />
    <axis
      xyz="0 0 0" />
  </joint> 
<link
    name="IMU_Link">
    <inertial>
      <origin
        xyz="0.010731 -0.00061872 -0.27685"
        rpy="0 0 0" />
      <mass
        value="0.000704900526624758" />
      <inertia
        ixx="3.83469081842287E-08"
        ixy="-1.03709665858922E-09"
        ixz="-2.11183830250688E-10"
        iyy="1.37853263734955E-08"
        iyz="-1.61145026935895E-11"
        izz="5.18252315581656E-08" />
    </inertial>
    <visual>
      <origin
        xyz="0 0 0"
        rpy="0 0 0" />
      <geometry>
        <mesh
          filename="package://humanoid_descripition/meshes/IMU.STL" />
      </geometry>
      <material
        name="blue">
        <color
          rgba="0.666666666666667 0.698039215686274 0.768627450980392 1" />
      </material>
    </visual>
    <collision>
      <origin
        xyz="0 0 0"
        rpy="0 0 0" />
      <geometry>
        <mesh
          filename="package://humanoid_descripition/meshes/IMU.STL" />
      </geometry>
    </collision>
  </link>
  <joint
    name="IMU_Joint"
    type="fixed">
    <origin
      xyz="0.00022338 0.00015602 0.0"
      rpy="0 0 0" />
    <parent
      link="Head_Horizontal_Link" />
    <child
      link="IMU_Link" />
    <axis
      xyz="0 0 0" />
  </joint>
</robot> 
